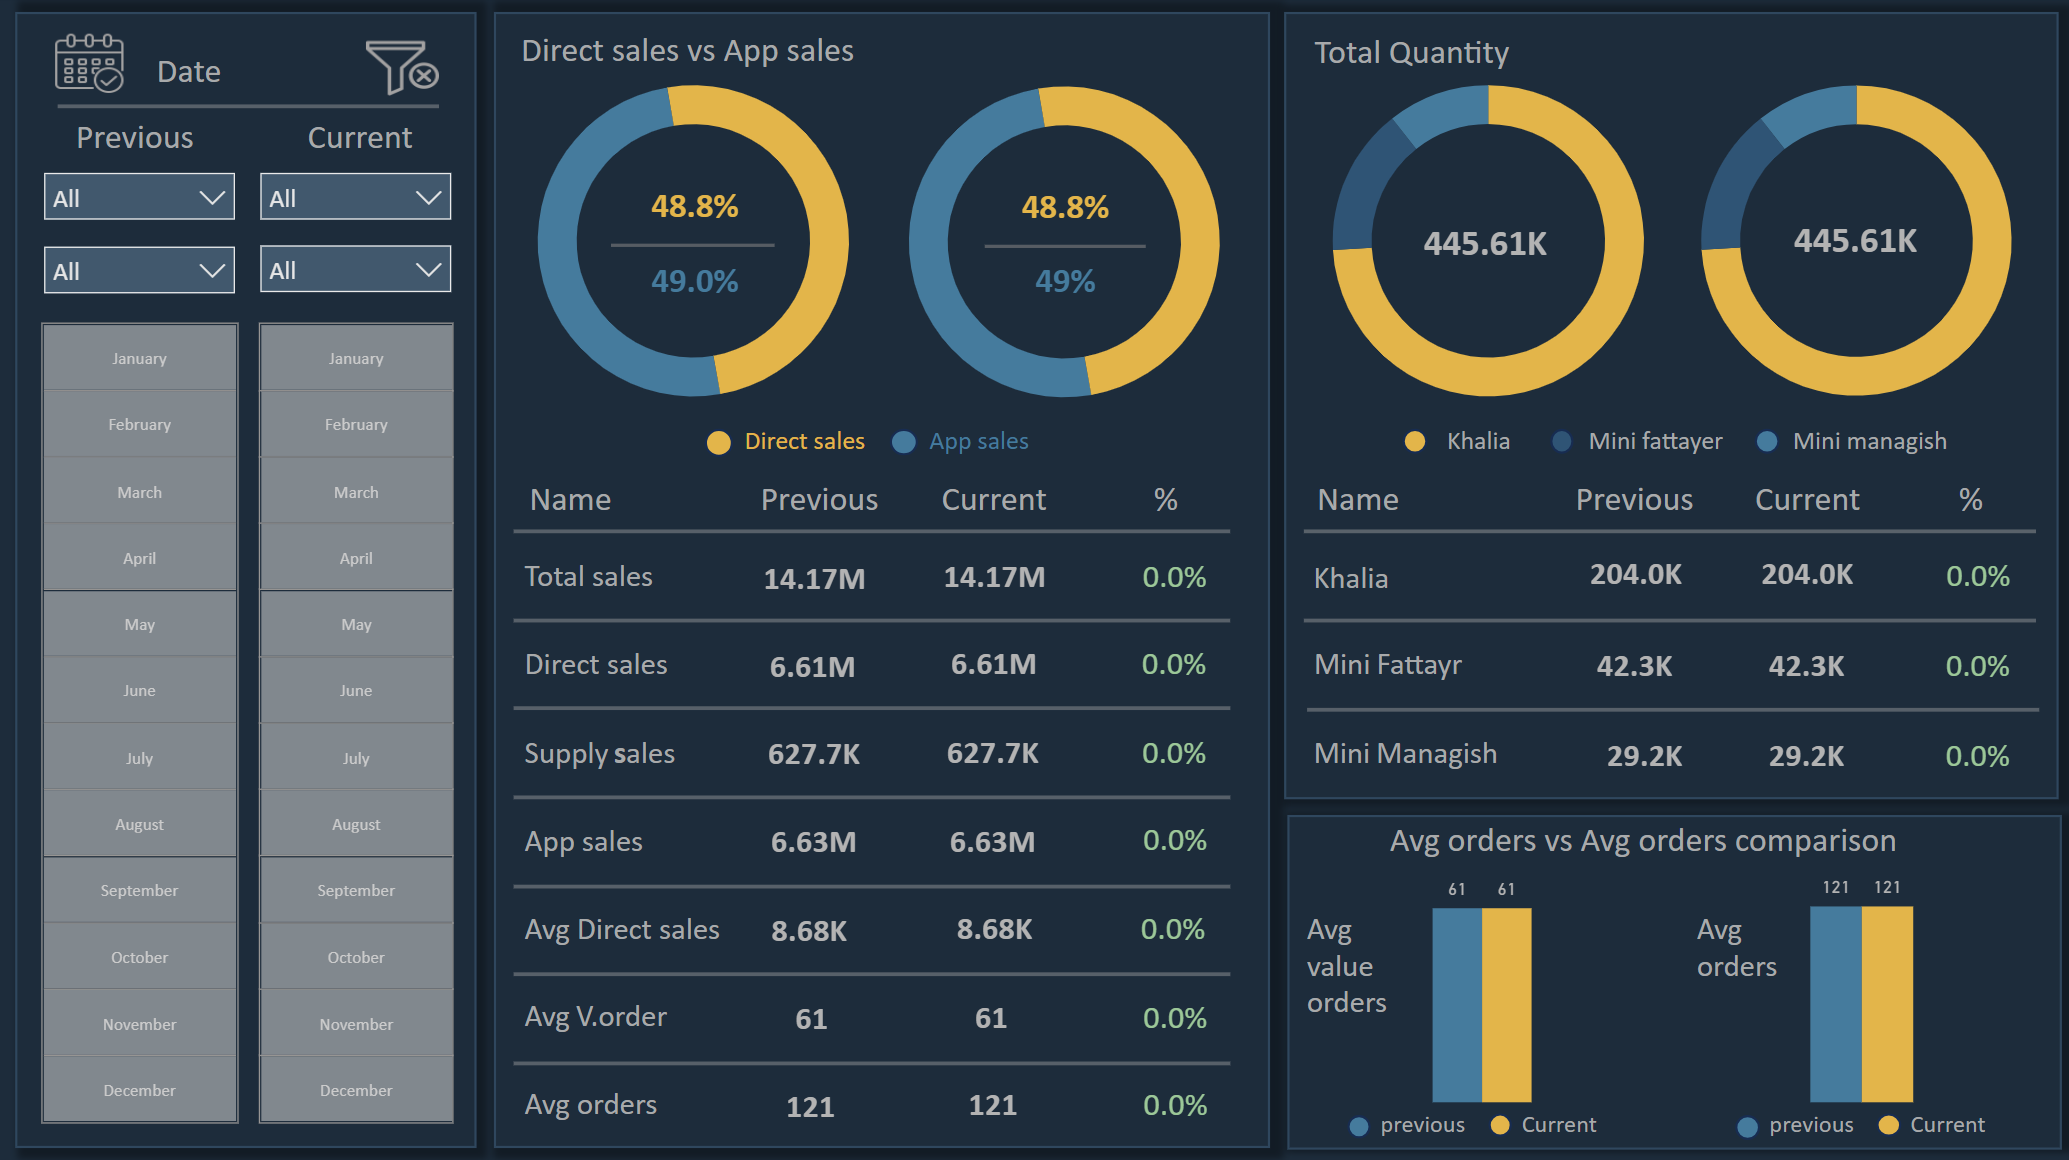

The dashboard page shown, as its layout file describes it:
{"tool":"powerbi","page":{"name":"Comparison","canvas":[1280,720],"ordinal":1},"visuals":[{"type":"card","title":"المبيعات المباشرة","fields":{"Values":["A MEASURE.Direct sales"]},"box":[565.1,392.4,99.9,40],"z":0},{"type":"donutChart","fields":{"Y":["A MEASURE.app sales %","A MEASURE.Direct sales %"]},"box":[533.7,26.7,249.4,249.4],"z":1000,"group":"g2"},{"type":"card","title":"اجمالى المبيعات","fields":{"Values":["A MEASURE.Net sales"]},"box":[565.2,338.1,100.6,40],"z":1000},{"type":"donutChart","fields":{"Y":["A MEASURE.app sales comparison %","A MEASURE.Direct sales comparison %"]},"box":[305.4,26,249.7,249.7],"z":2000},{"type":"card","fields":{"Values":["A MEASURE.app sales %"]},"box":[603.8,153.1,110.6,45.4],"z":2000,"group":"g2"},{"type":"card","title":"جاهز","fields":{"Values":["A MEASURE.App sales"]},"box":[563.7,501,101.3,40],"z":3000},{"type":"card","title":"التوريد","fields":{"Values":["A MEASURE.supply sales"]},"box":[563.7,446.7,101.3,40],"z":4000},{"type":"card","fields":{"Values":["A MEASURE.Direct sales %"]},"box":[603.8,107.7,110.6,45],"z":5000,"group":"g2"},{"type":"card","title":"اجمالى المبيعات","fields":{"Values":["A MEASURE.comparison sales"]},"box":[454.2,339.4,100.6,40],"z":5000},{"type":"shape","box":[379,147,101,13],"z":6000},{"type":"shape","box":[609.5,147.4,99.2,12.8],"z":7000,"group":"g2"},{"type":"card","title":"المبيعات المباشرة","fields":{"Values":["A MEASURE.Direct sales comparison"]},"box":[453.8,393.5,99.9,40],"z":7000},{"type":"card","title":"جاهز","fields":{"Values":["A MEASURE.APP sales comparison"]},"box":[453.8,501.8,101.3,40],"z":8000},{"type":"card","title":"التوريد","fields":{"Values":["A MEASURE.supply sales comparison"]},"box":[453.8,447.6,101.3,40],"z":9000},{"type":"advancedSlicerVisual","title":"c","fields":{"Values":["DATE.Date.Variation.Date Hierarchy.Month"]},"box":[157.4,196.1,130.3,507.1],"z":10000},{"type":"slicer","title":"Current Month","fields":{"Values":["DATE.quarter"]},"box":[152.5,143.5,138,50],"z":11000},{"type":"advancedSlicerVisual","title":"p","fields":{"Values":["Comparison Date.Date.Variation.Date Hierarchy.Month1"]},"box":[23.2,196.1,131.6,507.1],"z":12000},{"type":"slicer","title":"Previous Month","fields":{"Values":["Comparison Date.quarter"]},"box":[19.1,144.2,138,50],"z":13000},{"type":"slicer","title":"p","fields":{"Values":["Comparison Date.Date.Variation.Date Hierarchy.Year"]},"box":[19.1,98.5,138,50],"z":14000},{"type":"slicer","title":"c","fields":{"Values":["DATE.Date.Variation.Date Hierarchy.Year"]},"box":[152.5,98.4,138,50],"z":15000},{"type":"actionButton","box":[230,24.6,39.5,36],"z":16000},{"type":"card","title":"اجمالى المبيعات","fields":{"Values":["A   Difference.App sales % gap"]},"box":[676.1,338.1,100.6,40],"z":17000},{"type":"card","title":"اجمالى المبيعات","fields":{"Values":["A   Difference.Direct sales % gap"]},"box":[676.4,392.3,99.9,40],"z":18000},{"type":"donutChart","fields":{"Y":["A   Difference.comparison sales quantity"],"Category":["products.categories"]},"box":[794.8,26,249.7,249.7],"z":19000,"group":"g1"},{"type":"card","title":"اجمالى المبيعات","fields":{"Values":["A   Difference.Supply sales % gap"]},"box":[676,446.6,100,40],"z":19000},{"type":"donutChart","title":"كمية المبيعات","fields":{"Y":["A MEASURE.sales quantity"],"Series":["products.categories"]},"box":[1021.7,26,249,249.4],"z":20000},{"type":"card","fields":{"Values":["A   Difference.comparison sales quantity"]},"box":[857.5,122.6,121.3,59.9],"z":21000,"group":"g1"},{"type":"card","title":"اجمالى المبيعات","fields":{"Values":["A   Difference.App sales % gap"]},"box":[676.4,500.8,101.3,40],"z":21000},{"type":"card","fields":{"Values":["A MEASURE.sales quantity"]},"box":[1084.7,120.6,123.2,59.9],"z":22000},{"type":"card","fields":{"Values":["A   Difference.comparison sales quantity"]},"box":[960.4,334.5,100.6,45],"z":23000},{"type":"card","fields":{"Values":["A MEASURE.MINI FATTYER comparison"]},"box":[959.7,390.6,100.6,45],"z":24000},{"type":"card","fields":{"Values":["A MEASURE.app sales comparison %"]},"box":[376,153,110,45],"z":25000},{"type":"card","fields":{"Values":["A MEASURE.MINI MANAGISH comparison"]},"box":[965.7,447,100.8,43.9],"z":26000},{"type":"card","fields":{"Values":["A MEASURE.Direct sales comparison %"]},"box":[376,107,110,45],"z":27000},{"type":"card","fields":{"Values":["A MEASURE.sales quantity"]},"box":[1066.7,334.5,99.2,45],"z":28000},{"type":"card","fields":{"Values":["A MEASURE.MINI FATTYER QUANTITY"]},"box":[1065.8,390.6,100,45],"z":29000},{"type":"card","fields":{"Values":["A MEASURE.MINI MANAGISH QUANTITY"]},"box":[1066,446.6,99.9,44.2],"z":30000},{"type":"card","title":"اجمالى المبيعات","fields":{"Values":["A   Difference.Differnce sales quantity %"]},"box":[1171.5,334.9,100.6,45],"z":31000},{"type":"card","title":"اجمالى المبيعات","fields":{"Values":["A   Difference.MINI FATTYER %"]},"box":[1171.5,390.8,100,45],"z":32000},{"type":"card","title":"اجمالى المبيعات","fields":{"Values":["A   Difference.MINI MANAGISH %"]},"box":[1171.5,446.6,99.9,44.2],"z":33000},{"type":"card","title":"متوسط الطلبات","fields":{"Values":["A MEASURE.avg value orders"]},"box":[563.4,609.7,101,40],"z":34000},{"type":"card","fields":{"Values":["A   Difference.avg value orders comparison"]},"box":[452.4,610.4,101.3,40],"z":35000},{"type":"card","title":"متوسط الطلبات","fields":{"Values":["A MEASURE.avg orders"]},"box":[564.2,664,100.2,40],"z":36000},{"type":"clusteredColumnChart","fields":{"Y":["A MEASURE.avg orders comparison","A MEASURE.avg orders"]},"box":[1028.4,525.2,247.7,162.6],"z":37000},{"type":"card","title":"اجمالى المبيعات","fields":{"Values":["A   Difference.Differnce V.Orders %"]},"box":[676.4,609.7,101.3,40],"z":38000},{"type":"clusteredColumnChart","fields":{"Y":["A   Difference.avg value orders comparison","A MEASURE.avg value orders"]},"box":[798.7,525.2,238.7,162.6],"z":39000},{"type":"card","fields":{"Values":["A   Difference.avg orders comparison"]},"box":[450.3,664.5,103.2,40],"z":40000},{"type":"card","title":"اجمالى المبيعات","fields":{"Values":["A   Difference.Diff AVG Orders %"]},"box":[676.4,664,101.7,40],"z":41000},{"type":"group","id":"g1","title":"Group 3","box":[794.8,26,249.7,249.7],"z":42000},{"type":"card","title":"جاهز","fields":{"Values":["A MEASURE.Avg daily sales"]},"box":[565.2,555.4,100.6,40],"z":43000},{"type":"card","title":"جاهز","fields":{"Values":["A MEASURE.Avg daily sales copmarison"]},"box":[451.6,555.9,100.2,40.4],"z":44000},{"type":"card","title":"اجمالى المبيعات","fields":{"Values":["A   Difference.Diff D.sales %"]},"box":[674.4,555.1,101.7,40.4],"z":45000},{"type":"group","id":"g2","title":"Group 1","box":[533.7,26.7,249.4,249.4],"z":46000}]}

Visuals, with their boxes in screenshot pixels (x1, y1, x2, y2), scaled from the page's 1280x720 canvas onto the 2069x1160 screenshot:
"المبيعات المباشرة" card: <region>913, 632, 1075, 697</region>
donutChart - A MEASURE.app sales % x A MEASURE.Direct sales %: <region>863, 43, 1266, 445</region>
"اجمالى المبيعات" card: <region>914, 545, 1076, 609</region>
donutChart - A MEASURE.app sales comparison % x A MEASURE.Direct sales comparison %: <region>494, 42, 897, 444</region>
card - A MEASURE.app sales %: <region>976, 247, 1155, 320</region>
"جاهز" card: <region>911, 807, 1075, 872</region>
"التوريد" card: <region>911, 720, 1075, 784</region>
card - A MEASURE.Direct sales %: <region>976, 174, 1155, 246</region>
"اجمالى المبيعات" card: <region>734, 547, 897, 611</region>
shape: <region>613, 237, 776, 258</region>
shape: <region>985, 237, 1146, 258</region>
"المبيعات المباشرة" card: <region>734, 634, 895, 698</region>
"جاهز" card: <region>734, 808, 897, 873</region>
"التوريد" card: <region>734, 721, 897, 786</region>
"c" advancedSlicerVisual: <region>254, 316, 465, 1133</region>
"Current Month" slicer: <region>247, 231, 470, 312</region>
"p" advancedSlicerVisual: <region>38, 316, 250, 1133</region>
"Previous Month" slicer: <region>31, 232, 254, 313</region>
"p" slicer: <region>31, 159, 254, 239</region>
"c" slicer: <region>247, 159, 470, 239</region>
actionButton: <region>372, 40, 436, 98</region>
"اجمالى المبيعات" card: <region>1093, 545, 1255, 609</region>
"اجمالى المبيعات" card: <region>1093, 632, 1255, 696</region>
donutChart - A   Difference.comparison sales quantity x products.categories: <region>1285, 42, 1688, 444</region>
"اجمالى المبيعات" card: <region>1093, 720, 1254, 784</region>
"كمية المبيعات" donutChart: <region>1651, 42, 2054, 444</region>
card - A   Difference.comparison sales quantity: <region>1386, 198, 1582, 294</region>
"اجمالى المبيعات" card: <region>1093, 807, 1257, 871</region>
card - A MEASURE.sales quantity: <region>1753, 194, 1952, 291</region>
card - A   Difference.comparison sales quantity: <region>1552, 539, 1715, 611</region>
card - A MEASURE.MINI FATTYER comparison: <region>1551, 629, 1714, 702</region>
card - A MEASURE.app sales comparison %: <region>608, 246, 786, 319</region>
card - A MEASURE.MINI MANAGISH comparison: <region>1561, 720, 1724, 791</region>
card - A MEASURE.Direct sales comparison %: <region>608, 172, 786, 245</region>
card - A MEASURE.sales quantity: <region>1724, 539, 1885, 611</region>
card - A MEASURE.MINI FATTYER QUANTITY: <region>1723, 629, 1884, 702</region>
card - A MEASURE.MINI MANAGISH QUANTITY: <region>1723, 720, 1885, 791</region>
"اجمالى المبيعات" card: <region>1894, 540, 2056, 612</region>
"اجمالى المبيعات" card: <region>1894, 630, 2055, 702</region>
"اجمالى المبيعات" card: <region>1894, 720, 2055, 791</region>
"متوسط الطلبات" card: <region>911, 982, 1074, 1047</region>
card - A   Difference.avg value orders comparison: <region>731, 983, 895, 1048</region>
"متوسط الطلبات" card: <region>912, 1070, 1074, 1134</region>
clusteredColumnChart - A MEASURE.avg orders comparison x A MEASURE.avg orders: <region>1662, 846, 2063, 1108</region>
"اجمالى المبيعات" card: <region>1093, 982, 1257, 1047</region>
clusteredColumnChart - A   Difference.avg value orders comparison x A MEASURE.avg value orders: <region>1291, 846, 1677, 1108</region>
card - A   Difference.avg orders comparison: <region>728, 1071, 895, 1135</region>
"اجمالى المبيعات" card: <region>1093, 1070, 1258, 1134</region>
"Group 3" group: <region>1285, 42, 1688, 444</region>
"جاهز" card: <region>914, 895, 1076, 959</region>
"جاهز" card: <region>730, 896, 892, 961</region>
"اجمالى المبيعات" card: <region>1090, 894, 1254, 959</region>
"Group 1" group: <region>863, 43, 1266, 445</region>
